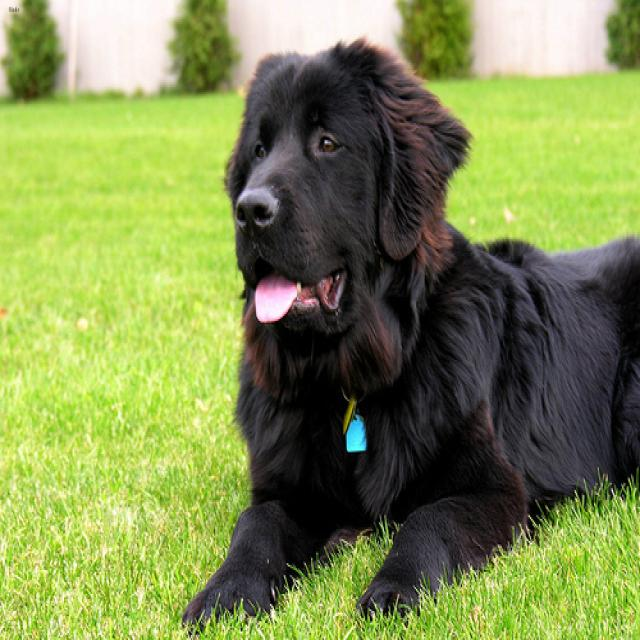dog-newfoundland: (170, 31, 637, 637)
